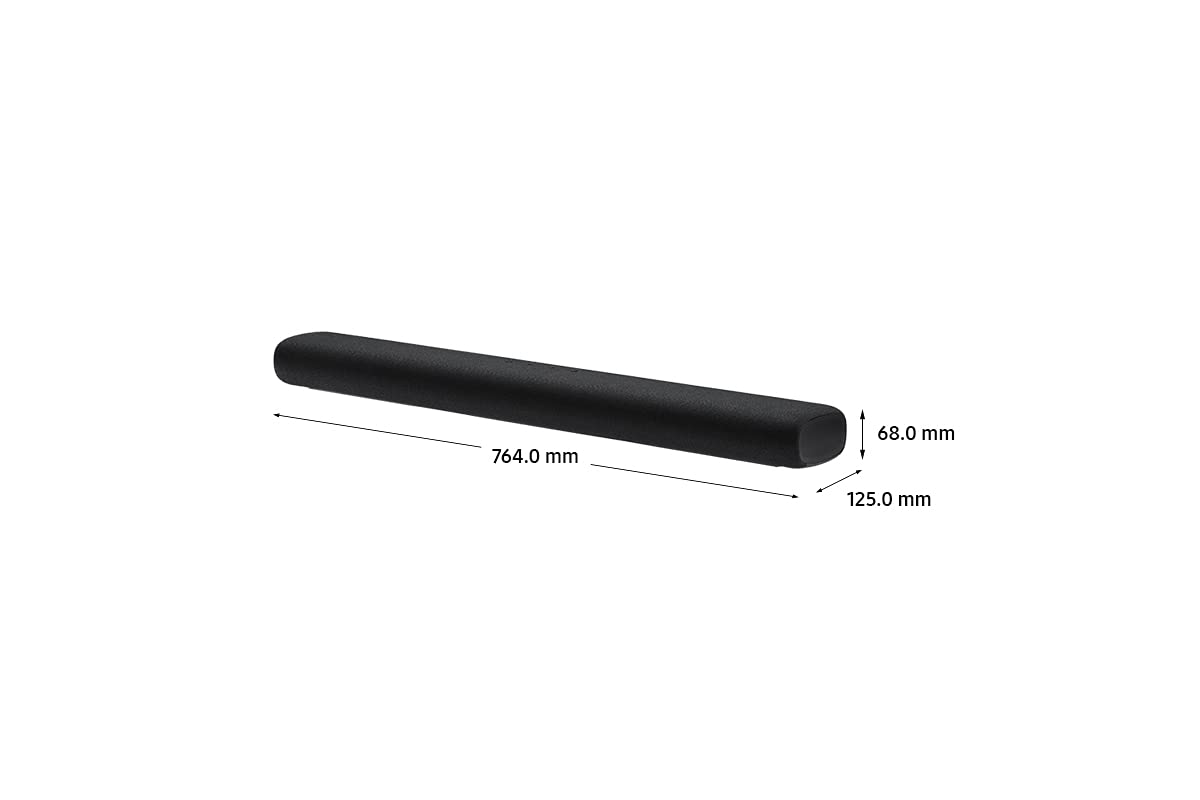125.0: (847, 492, 892, 506)
68.0: (878, 426, 916, 440)
764.0: (492, 449, 539, 463)
mm: (546, 452, 578, 463), (922, 429, 954, 440), (899, 495, 930, 506)
|: (860, 410, 865, 459)
